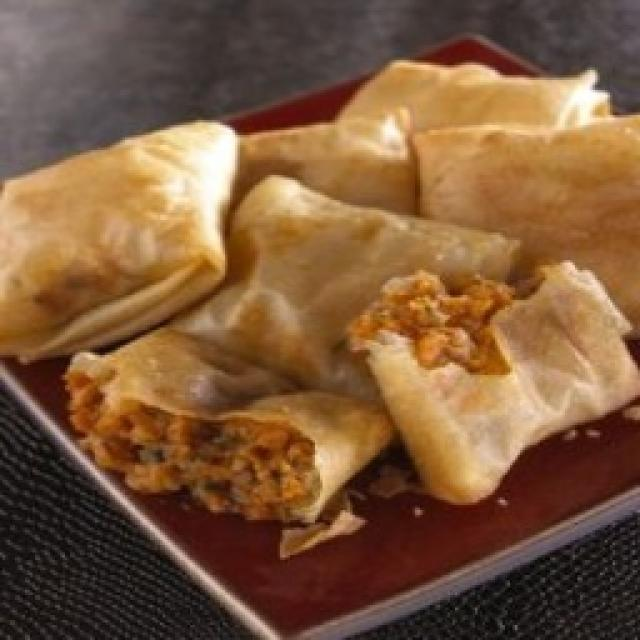Brik: (0, 61, 640, 551)
